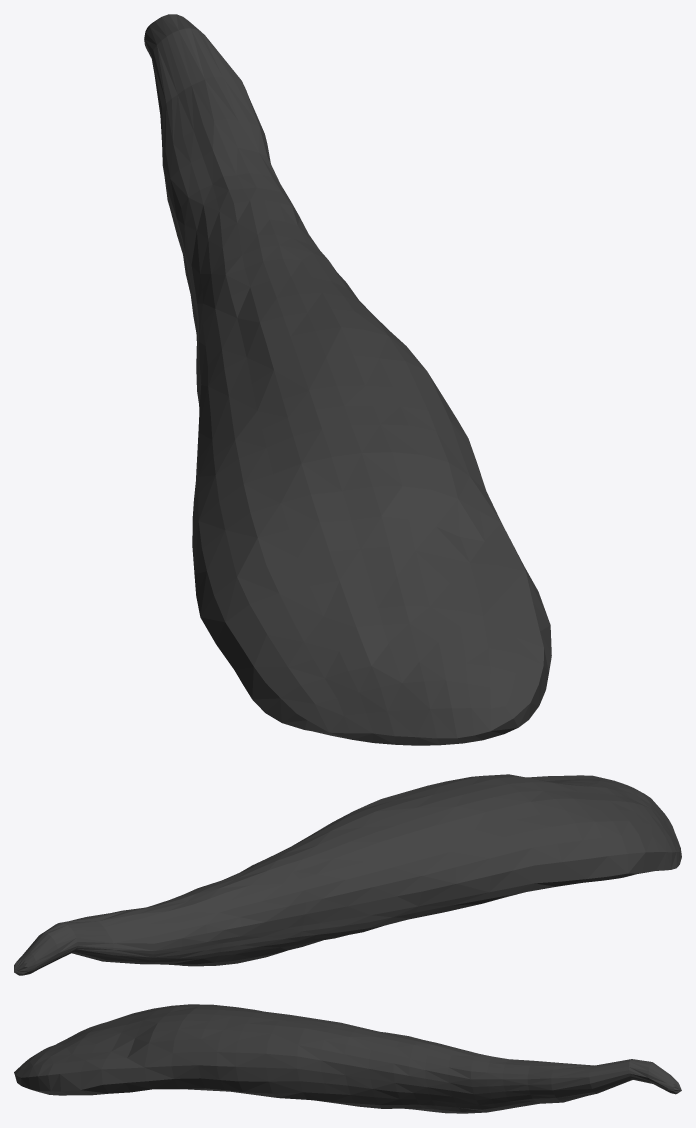
The model's file is Infraspinatus_1.glb.
3 renders of one model, top to bottom at view 1: azimuth 30°, elevation 25°; view 2: azimuth 150°, elevation 25°; view 3: azimuth 270°, elevation 25°, orthographic. The views are drawn at different scales.
Visible parts, largest first — view 1: Infraspinatus_1; view 2: Infraspinatus_1; view 3: Infraspinatus_1.
Boxes of the visible parts, x1,y1,x2,y2 form: Infraspinatus_1: (144,14,551,745); Infraspinatus_1: (14,774,681,975); Infraspinatus_1: (14,1004,681,1113).
Size of the model in its own units: 0.0145 by 0.00577 by 0.0345.
1 material, 1 textured.
